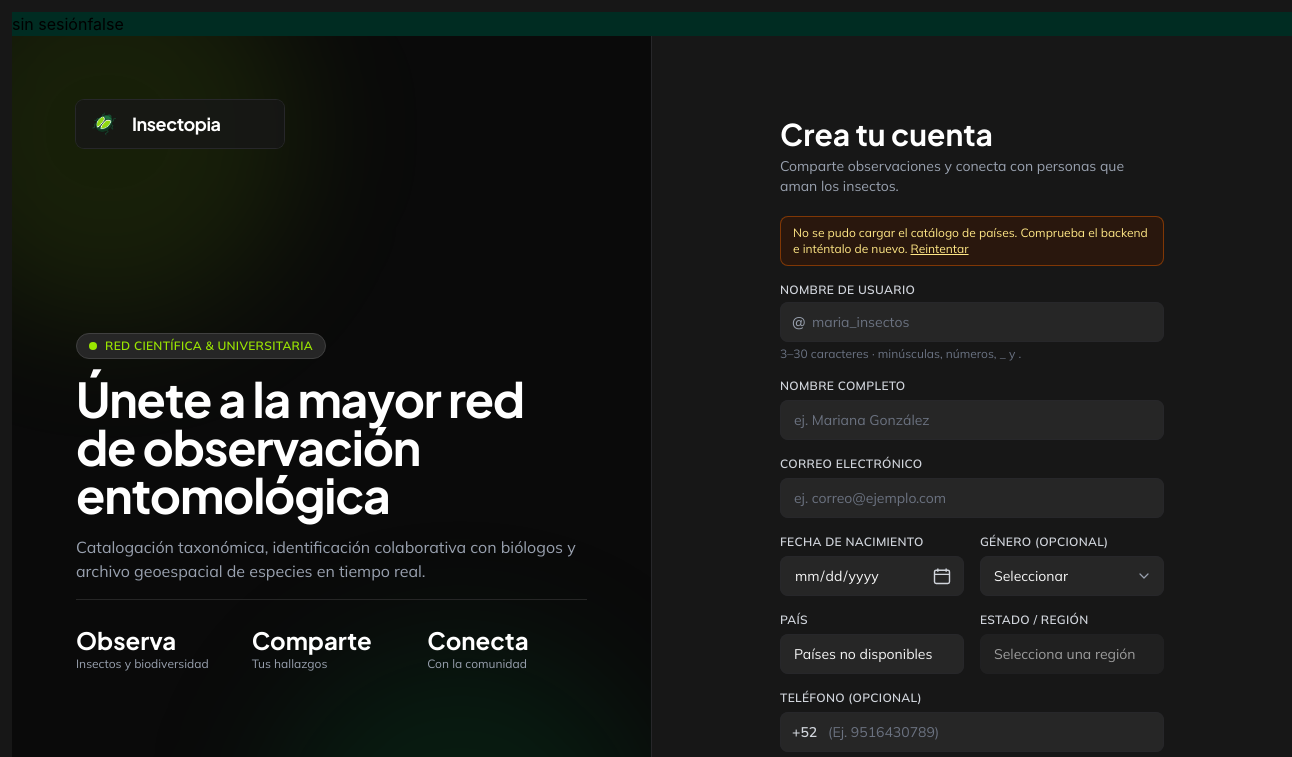
Test case: pantalla de registro › requiere teléfono si se activa SMS y muestra error cuando no carga el catálogo
Expected: the text "No se pudo cargar el catálogo de países" is shown, [793, 225, 1148, 256]
Expected: the dropdown labelled "País" is enabled, [780, 634, 964, 674]
Step 1. Click the button "Reintentar" → (940, 249), box [910, 241, 968, 257]
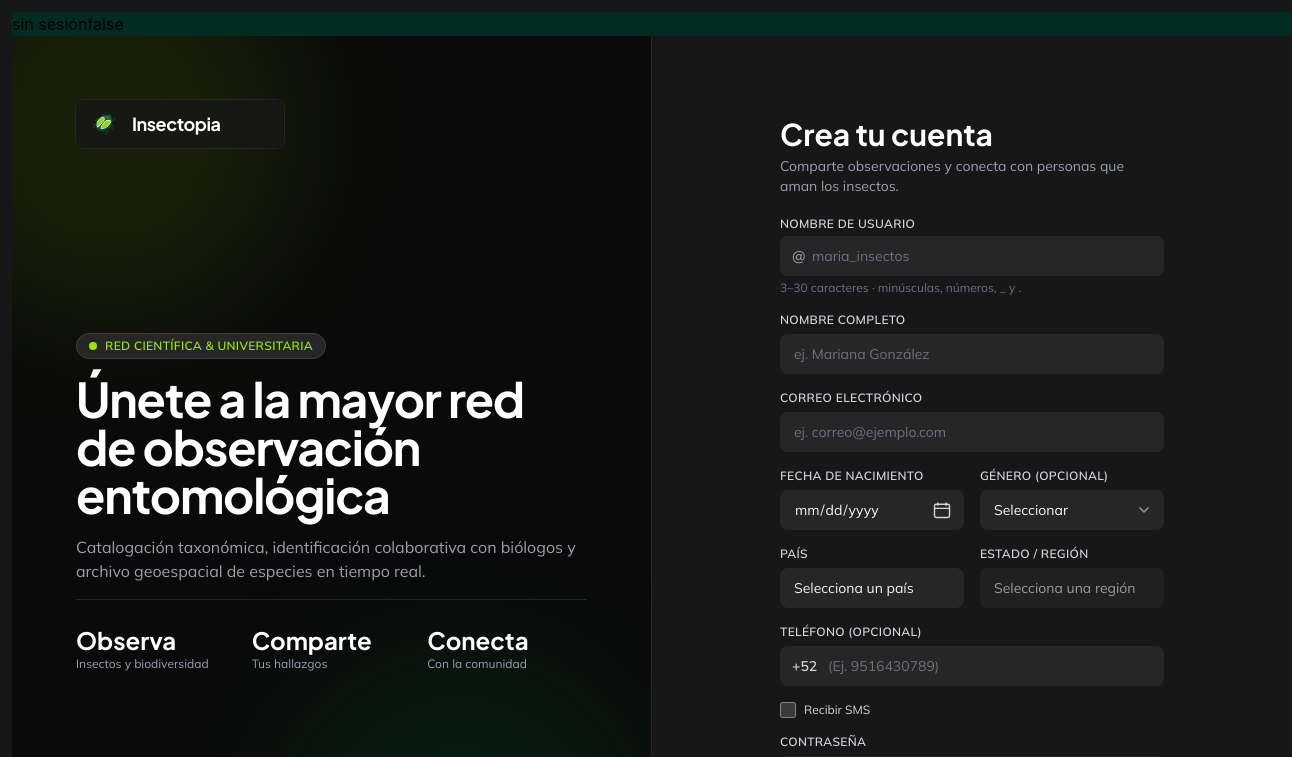
Step 2. Click the checkbox labelled "Recibir SMS" → (788, 710), box [780, 702, 796, 718]
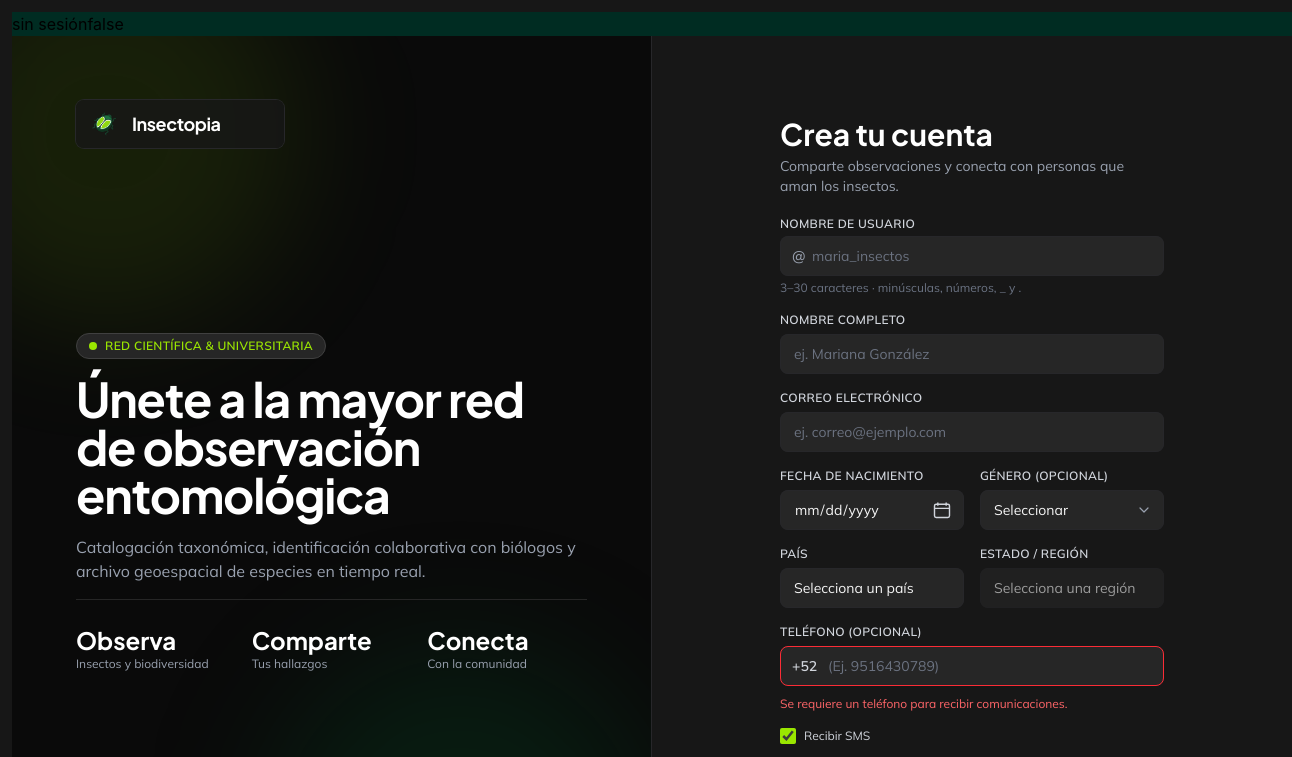
Result: the text "Se requiere un teléfono para recibir comunicaciones." is shown at [780, 696, 1067, 711]
